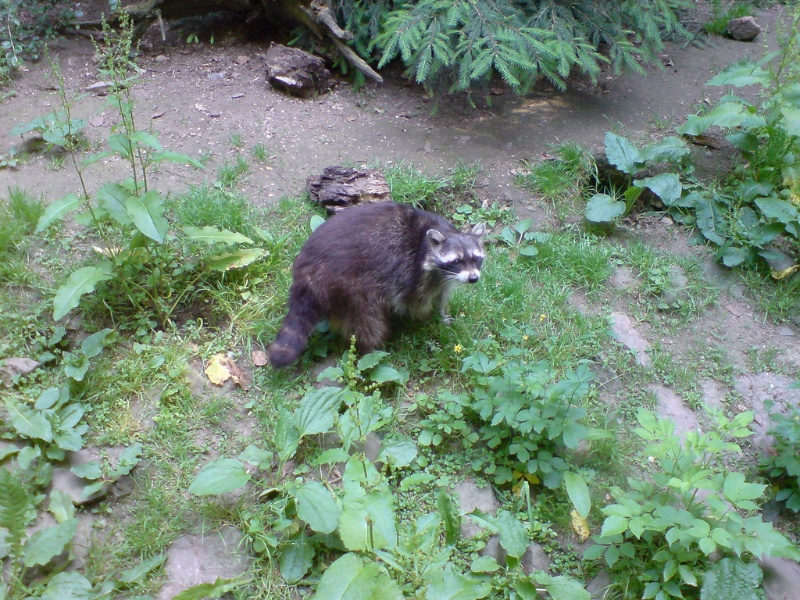raccoon: (259, 190, 491, 378)
